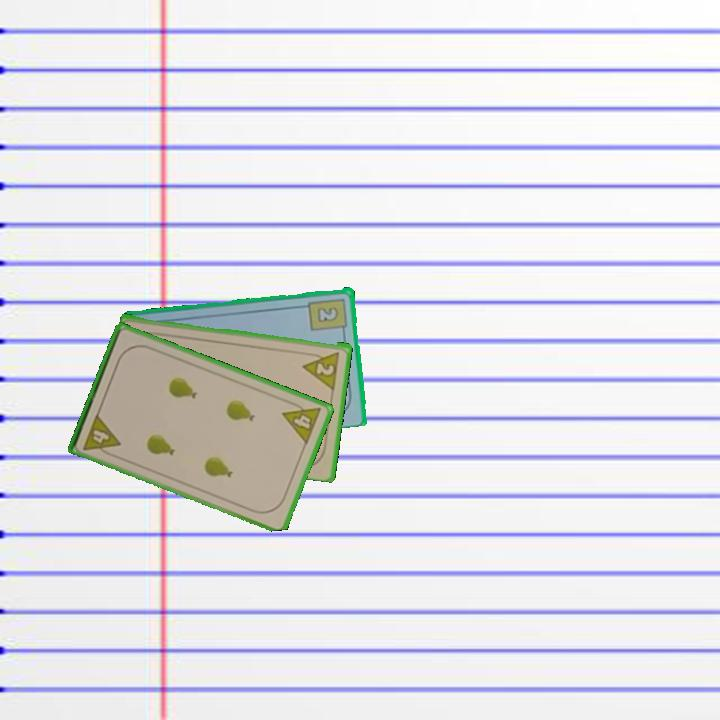2b: (306, 294, 350, 337)
2p: (313, 358, 337, 378)
4p: (279, 396, 324, 447), (80, 410, 123, 460)
